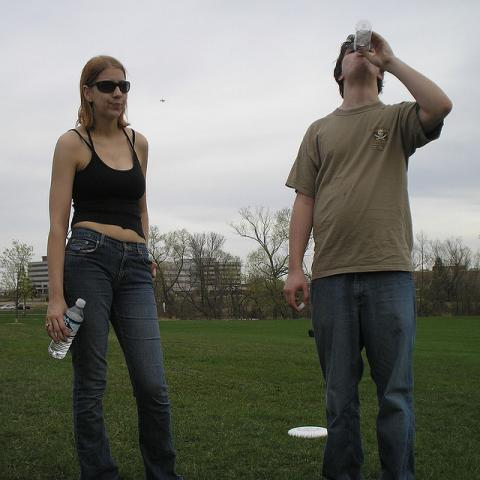car: (13, 303, 30, 310), (0, 304, 14, 310), (226, 288, 235, 290)
